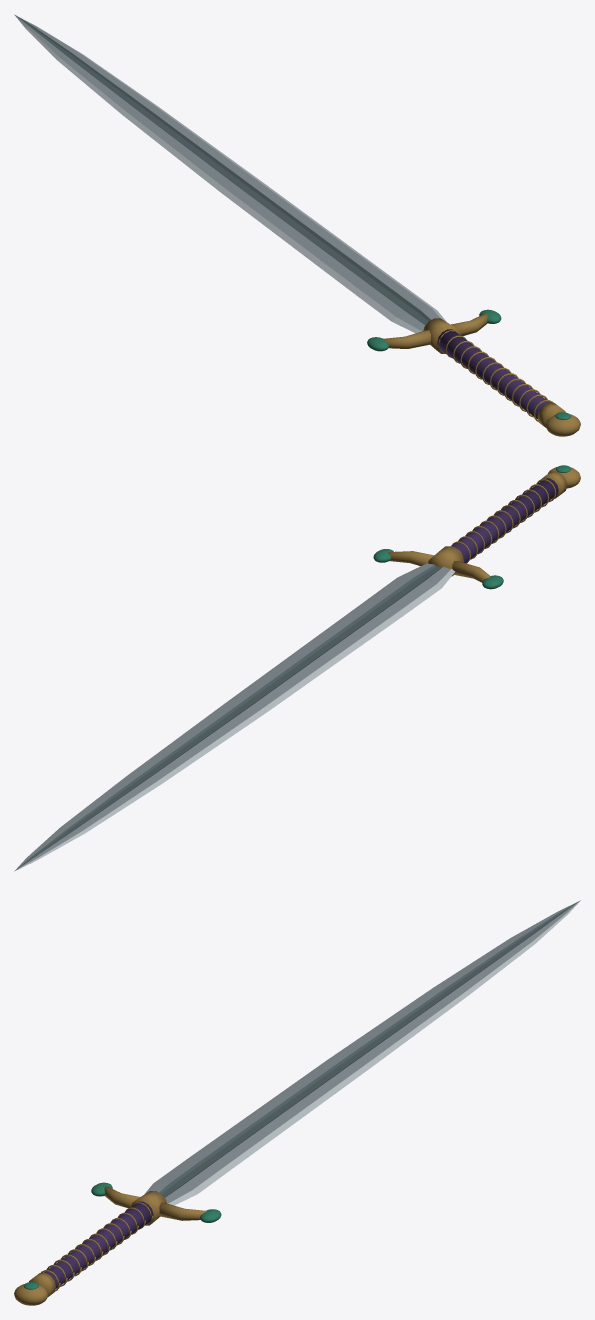
File: rift.glb
3 views of the same model, one above another, from view 1: azimuth 30°, elevation 25°; view 2: azimuth 150°, elevation 25°; view 3: azimuth 330°, elevation 25° (orthographic). The views are drawn at different scales.
Parts seen in each view (by area): view 1: MV_rift; view 2: MV_rift; view 3: MV_rift.
Boxes of the visible parts, x1,y1,x2,y2 form: MV_rift: [14, 14, 580, 436]; MV_rift: [14, 465, 580, 871]; MV_rift: [14, 900, 580, 1305].
Bounding box in the file's own units: 0.266 × 0.054 × 2.01.
